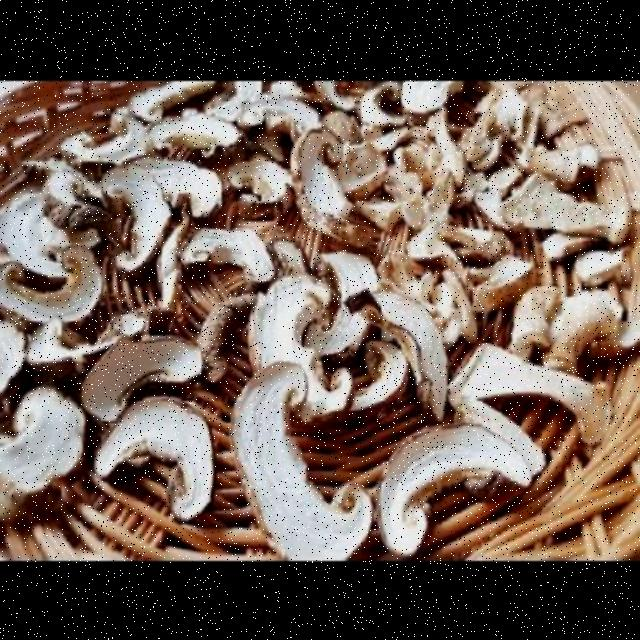Mushroom: (211, 345, 372, 566), (374, 400, 538, 551), (268, 103, 392, 257), (92, 379, 211, 535), (166, 217, 280, 306)
